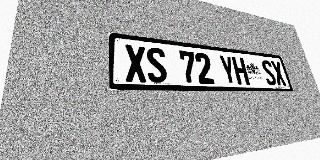2: (194, 52, 215, 84)
7: (178, 50, 199, 84)
H: (231, 56, 250, 85)
S: (145, 47, 168, 83), (260, 60, 278, 86)
X: (124, 44, 148, 82), (270, 61, 287, 86)
Y: (218, 55, 238, 85)
